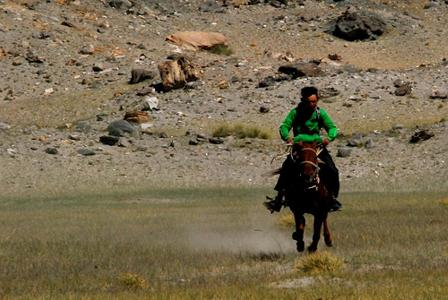person: (267, 86, 345, 212)
